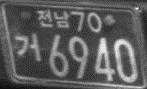0: (114, 36, 138, 84), (87, 10, 103, 34)
4: (93, 36, 115, 82)
6: (48, 33, 69, 79)
7: (70, 9, 85, 32)
9: (68, 34, 88, 80)
거: (13, 31, 42, 64)
전남_O: (36, 8, 69, 29)
